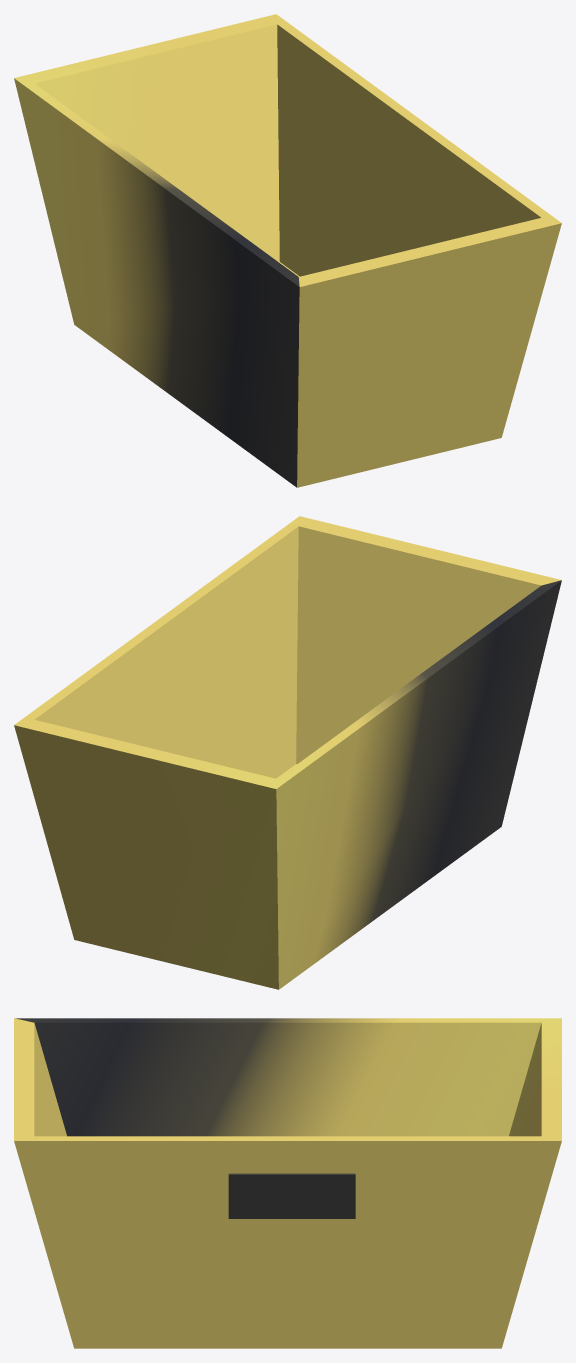
Rendered from Laundry_basket4.fbx.
3 views of the same model, one above another, from view 1: azimuth 30°, elevation 25°; view 2: azimuth 150°, elevation 25°; view 3: azimuth 270°, elevation 25° (orthographic). The views are drawn at different scales.
Visible parts, largest first — view 1: Laundry_basket4; view 2: Laundry_basket4; view 3: Laundry_basket4.
Part boxes in pixels (left/top/right/bottom): Laundry_basket4: left=14, top=14, right=561, bottom=487; Laundry_basket4: left=14, top=516, right=561, bottom=989; Laundry_basket4: left=14, top=1018, right=561, bottom=1348.
Size of the model in its own units: 46.48 by 39.05 by 87.63.
